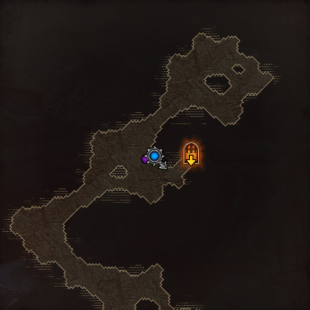Exit: (180, 140, 202, 168)
